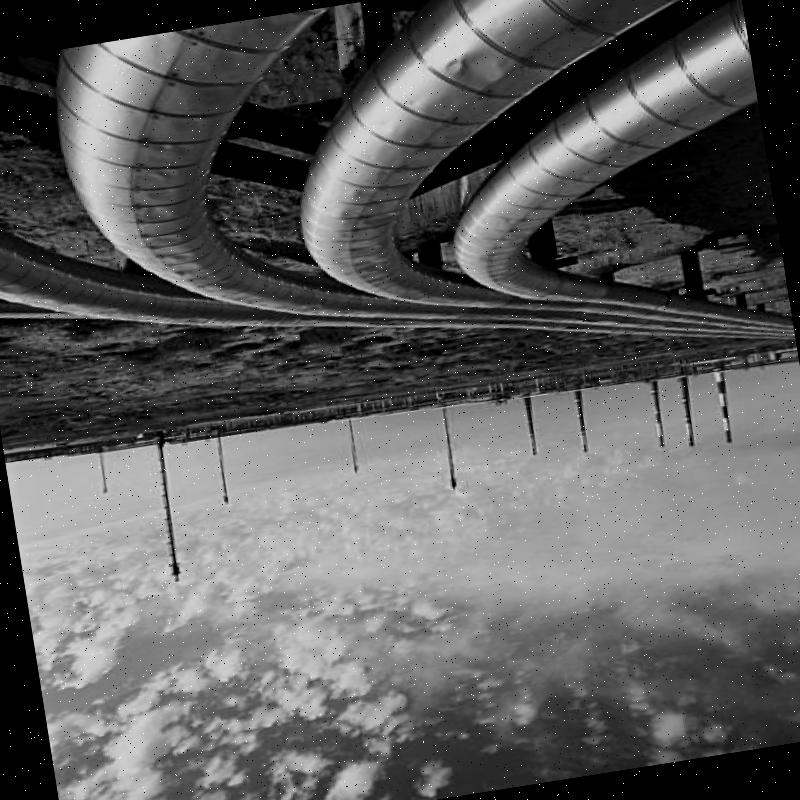Healthy: (0, 0, 787, 416)
